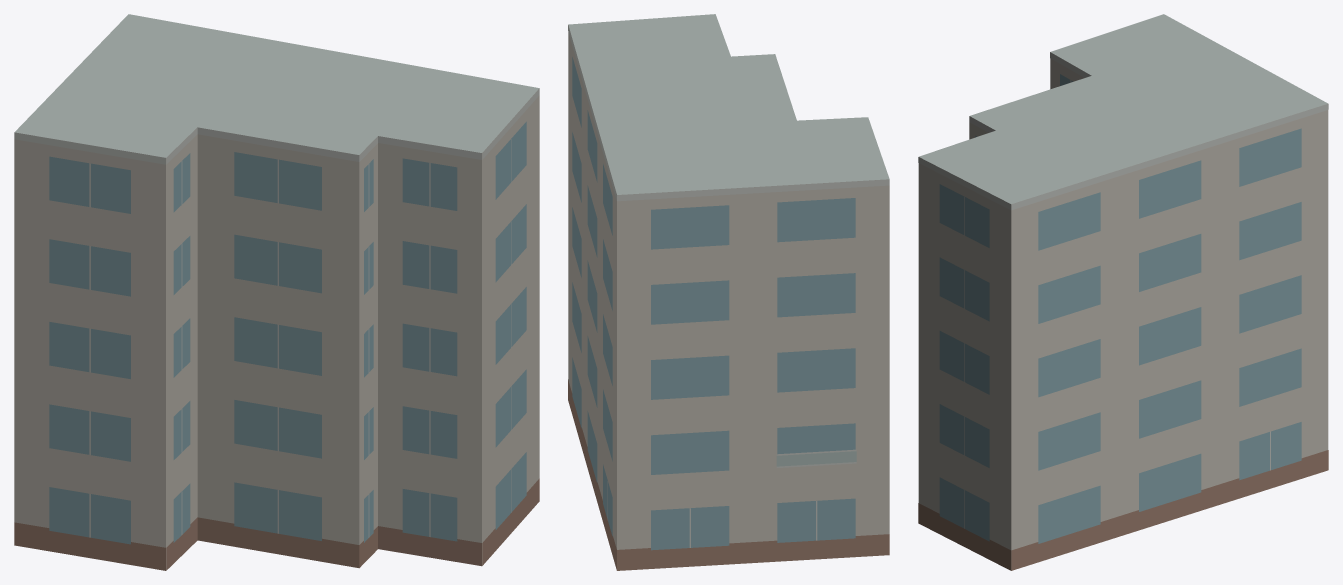
The model's file is survey-upis-32616898.glb.
3 renders of one model, left to right at view 1: azimuth 30°, elevation 25°; view 2: azimuth 150°, elevation 25°; view 3: azimuth 270°, elevation 25°, orthographic. The views are drawn at different scales.
Parts seen in each view (by area): view 1: survey-upis-32616898.tmp; view 2: survey-upis-32616898.tmp; view 3: survey-upis-32616898.tmp.
Part boxes in pixels (<box>): survey-upis-32616898.tmp: <box>14,14,539,570</box>; survey-upis-32616898.tmp: <box>568,14,889,570</box>; survey-upis-32616898.tmp: <box>918,14,1328,570</box>.
Bounding box in the file's own units: 16.17 × 14.52 × 14.72.
